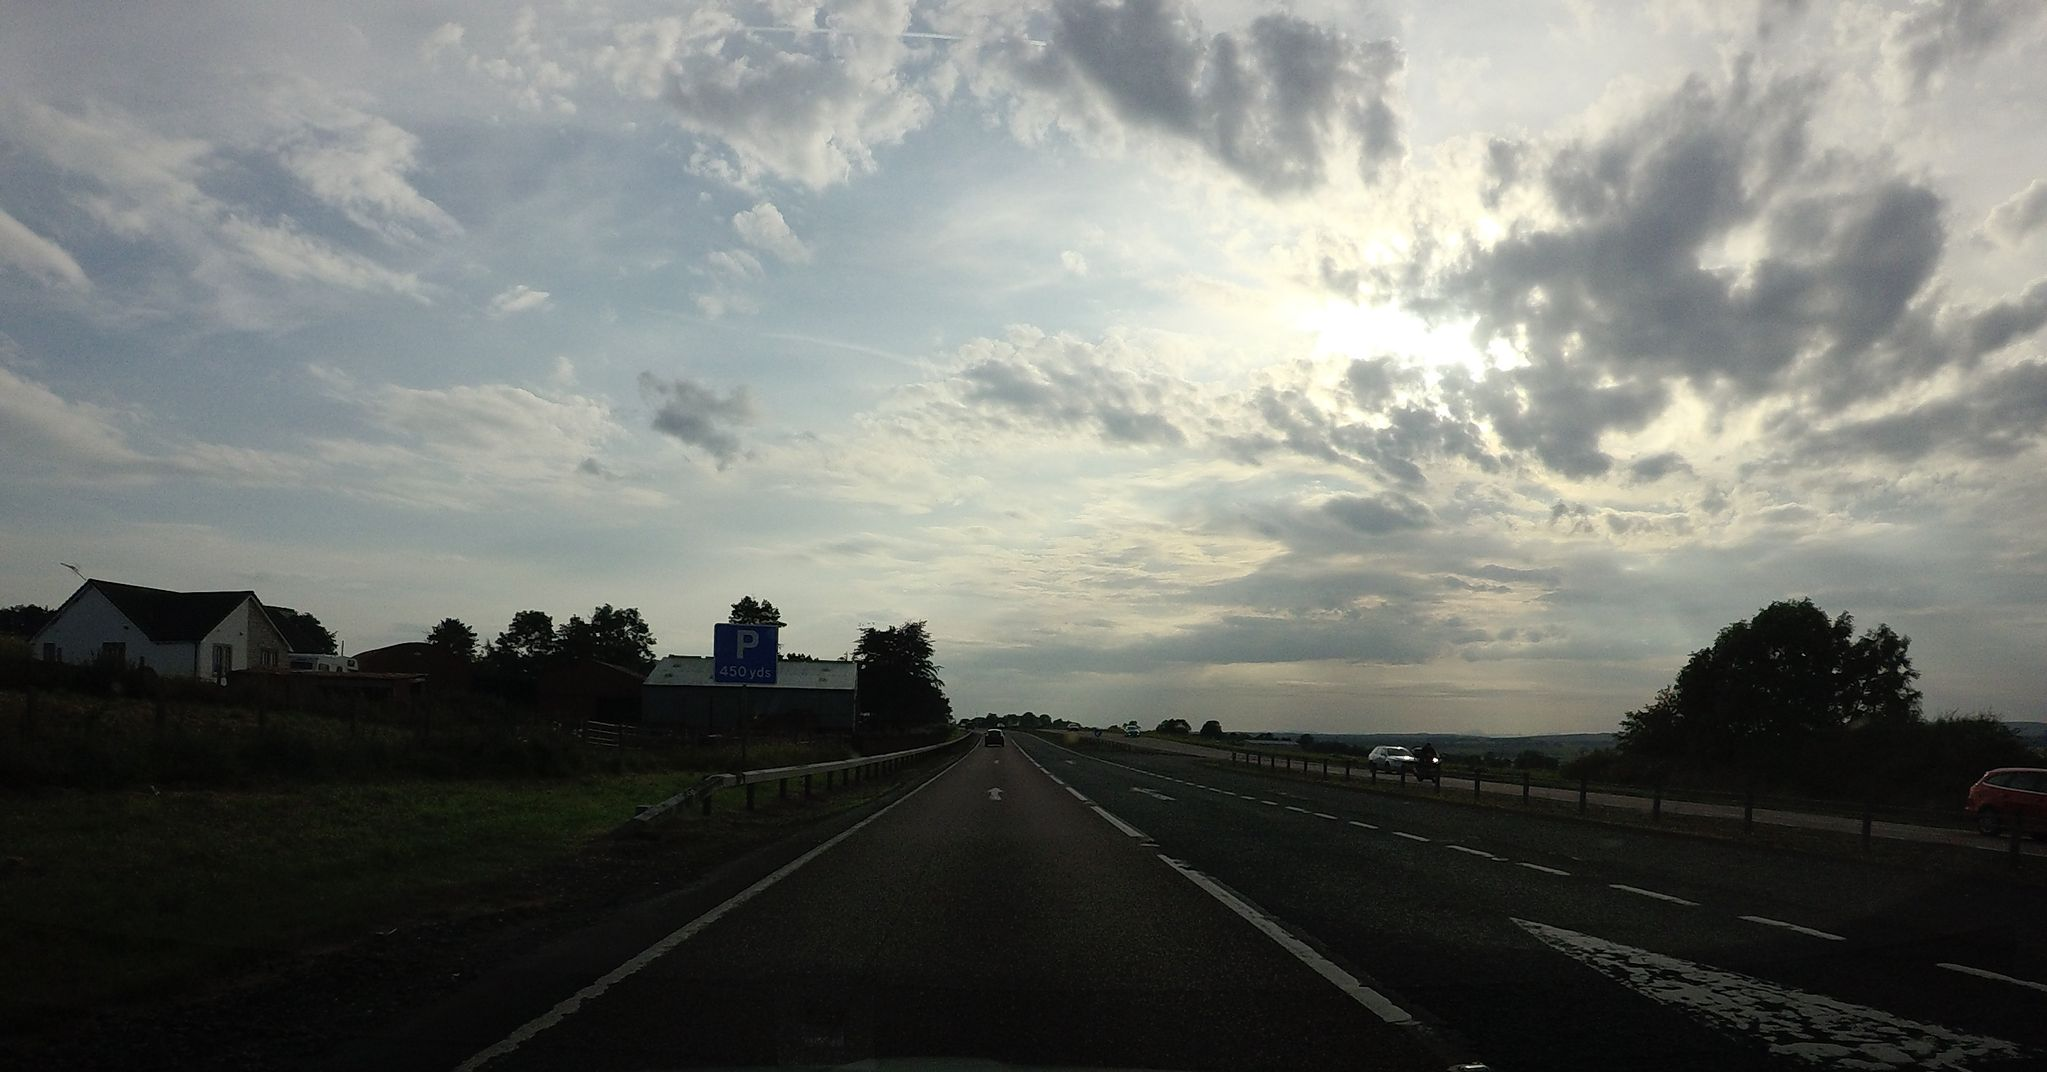car: (1367, 744, 1417, 774), (984, 728, 1005, 747), (1122, 725, 1140, 736)
motorcycle: (1412, 757, 1440, 782)
